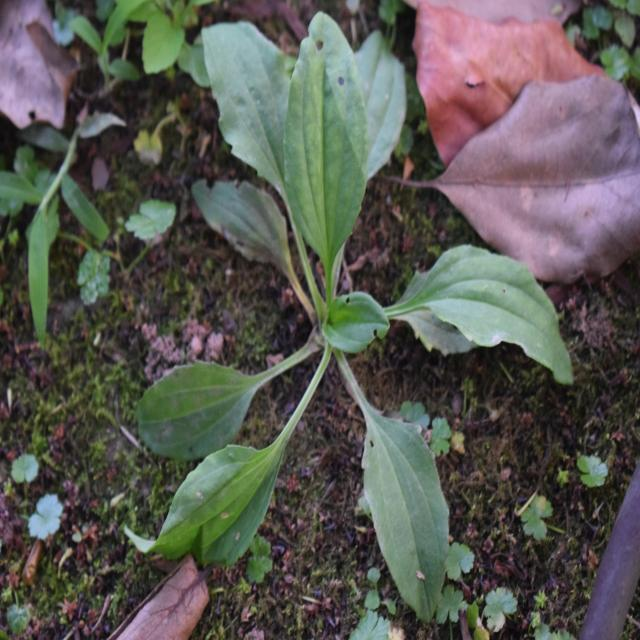plantain: (169, 27, 557, 574)
